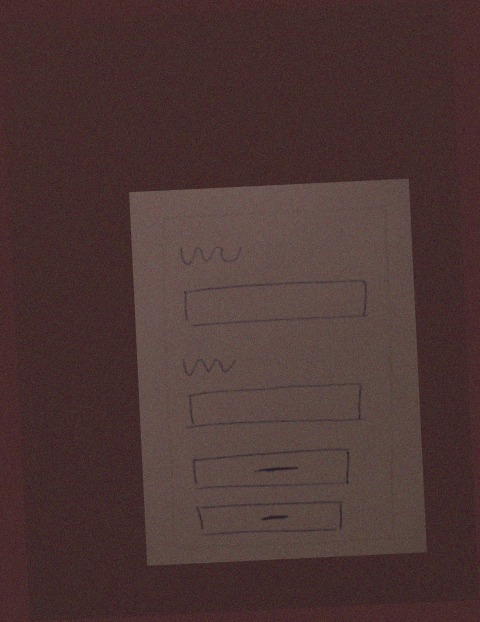button: (187, 445, 354, 495), (192, 494, 348, 544)
text: (174, 234, 250, 274), (179, 351, 244, 383)
text_input: (174, 272, 378, 334), (182, 381, 369, 434)
